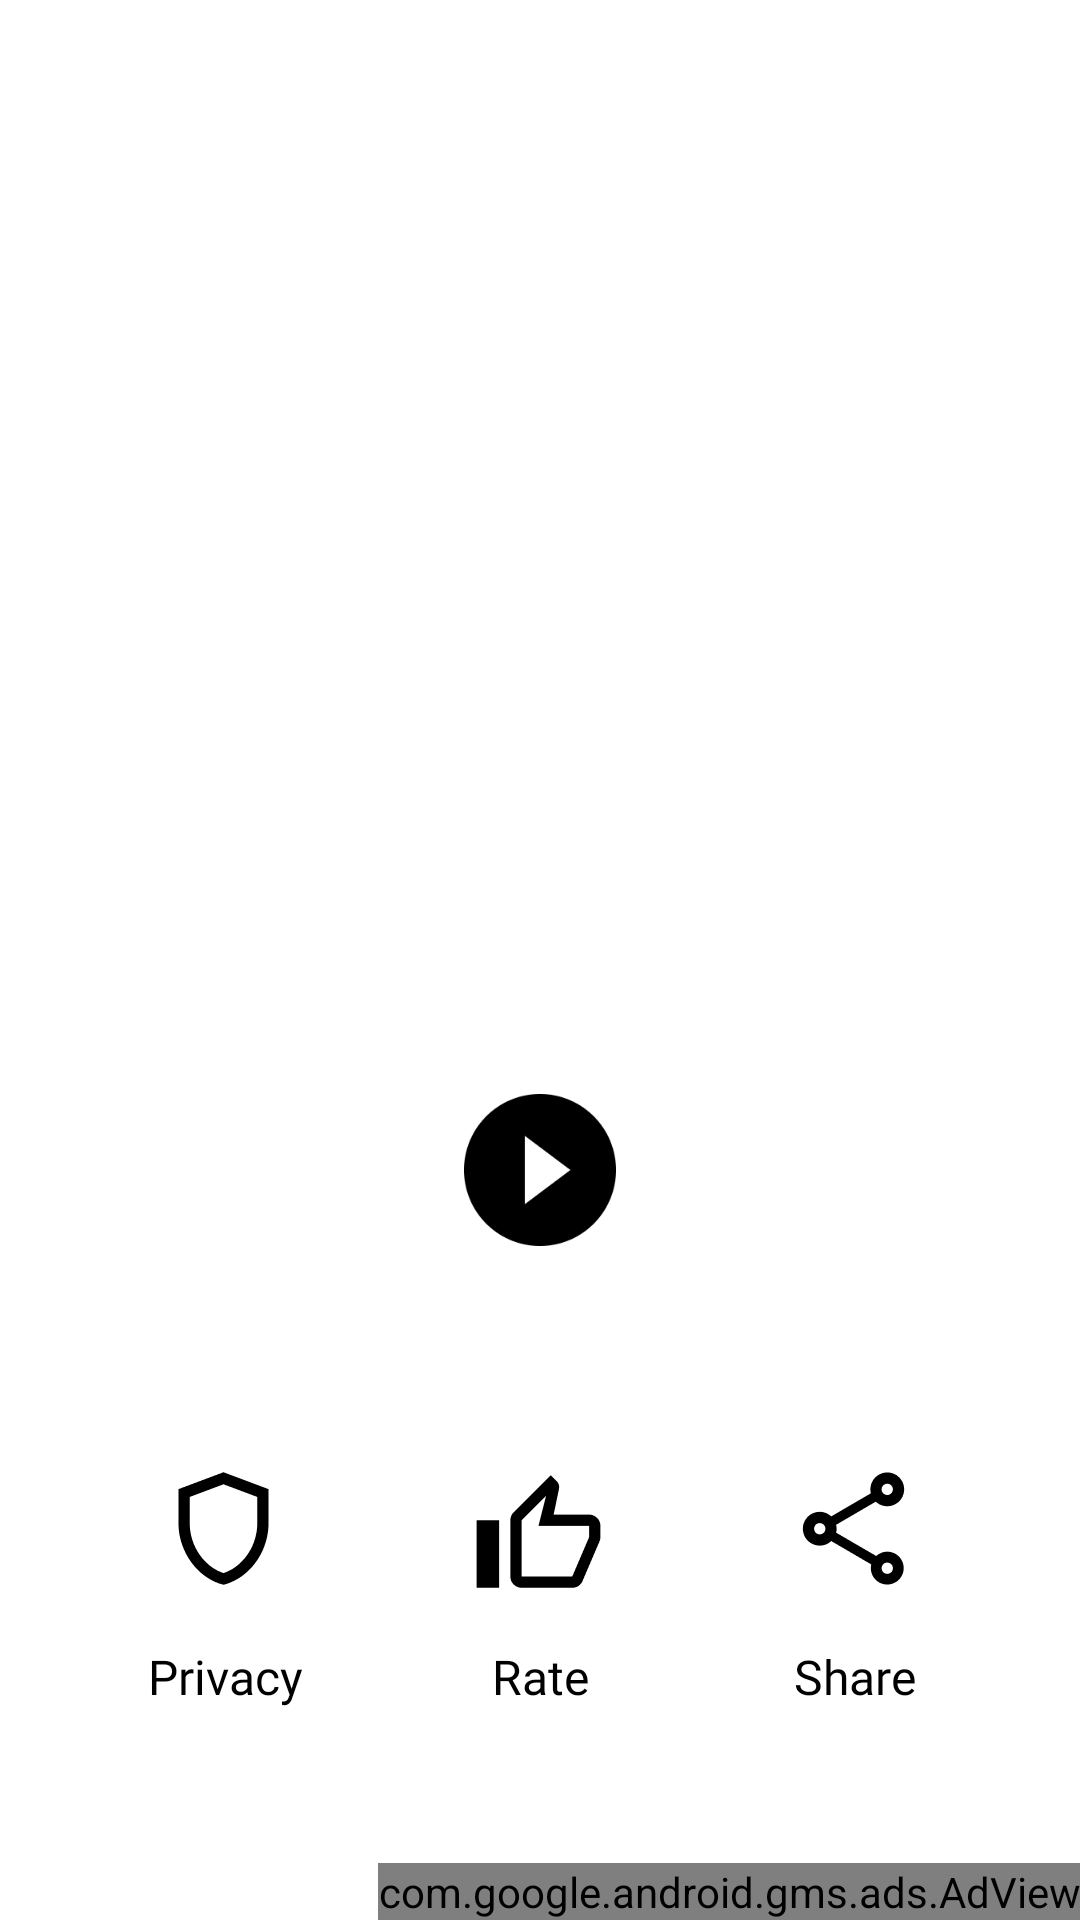

Screen size 1080w x 1920h. Icon name, then its box in pixels as (x1, y1, x2, y2):
Play ringtone: (464, 1094, 616, 1246)
